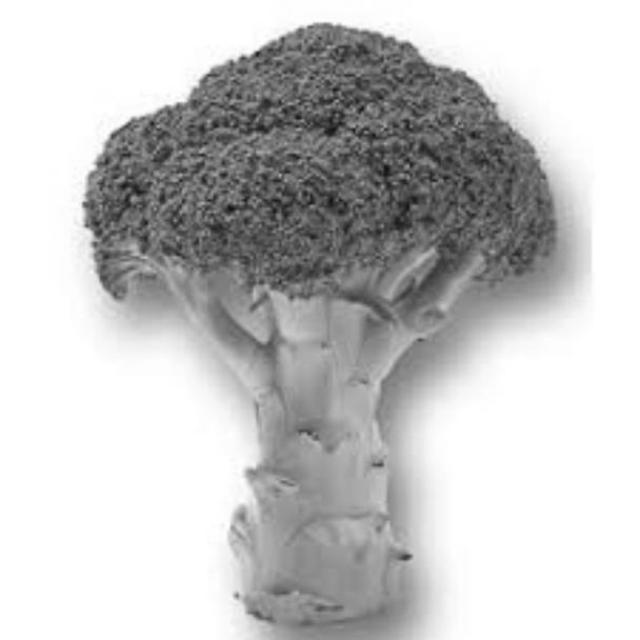bong cai xanh: (77, 16, 578, 637)
